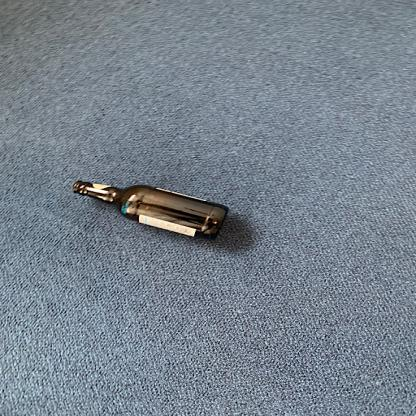trash: (71, 175, 244, 246)
